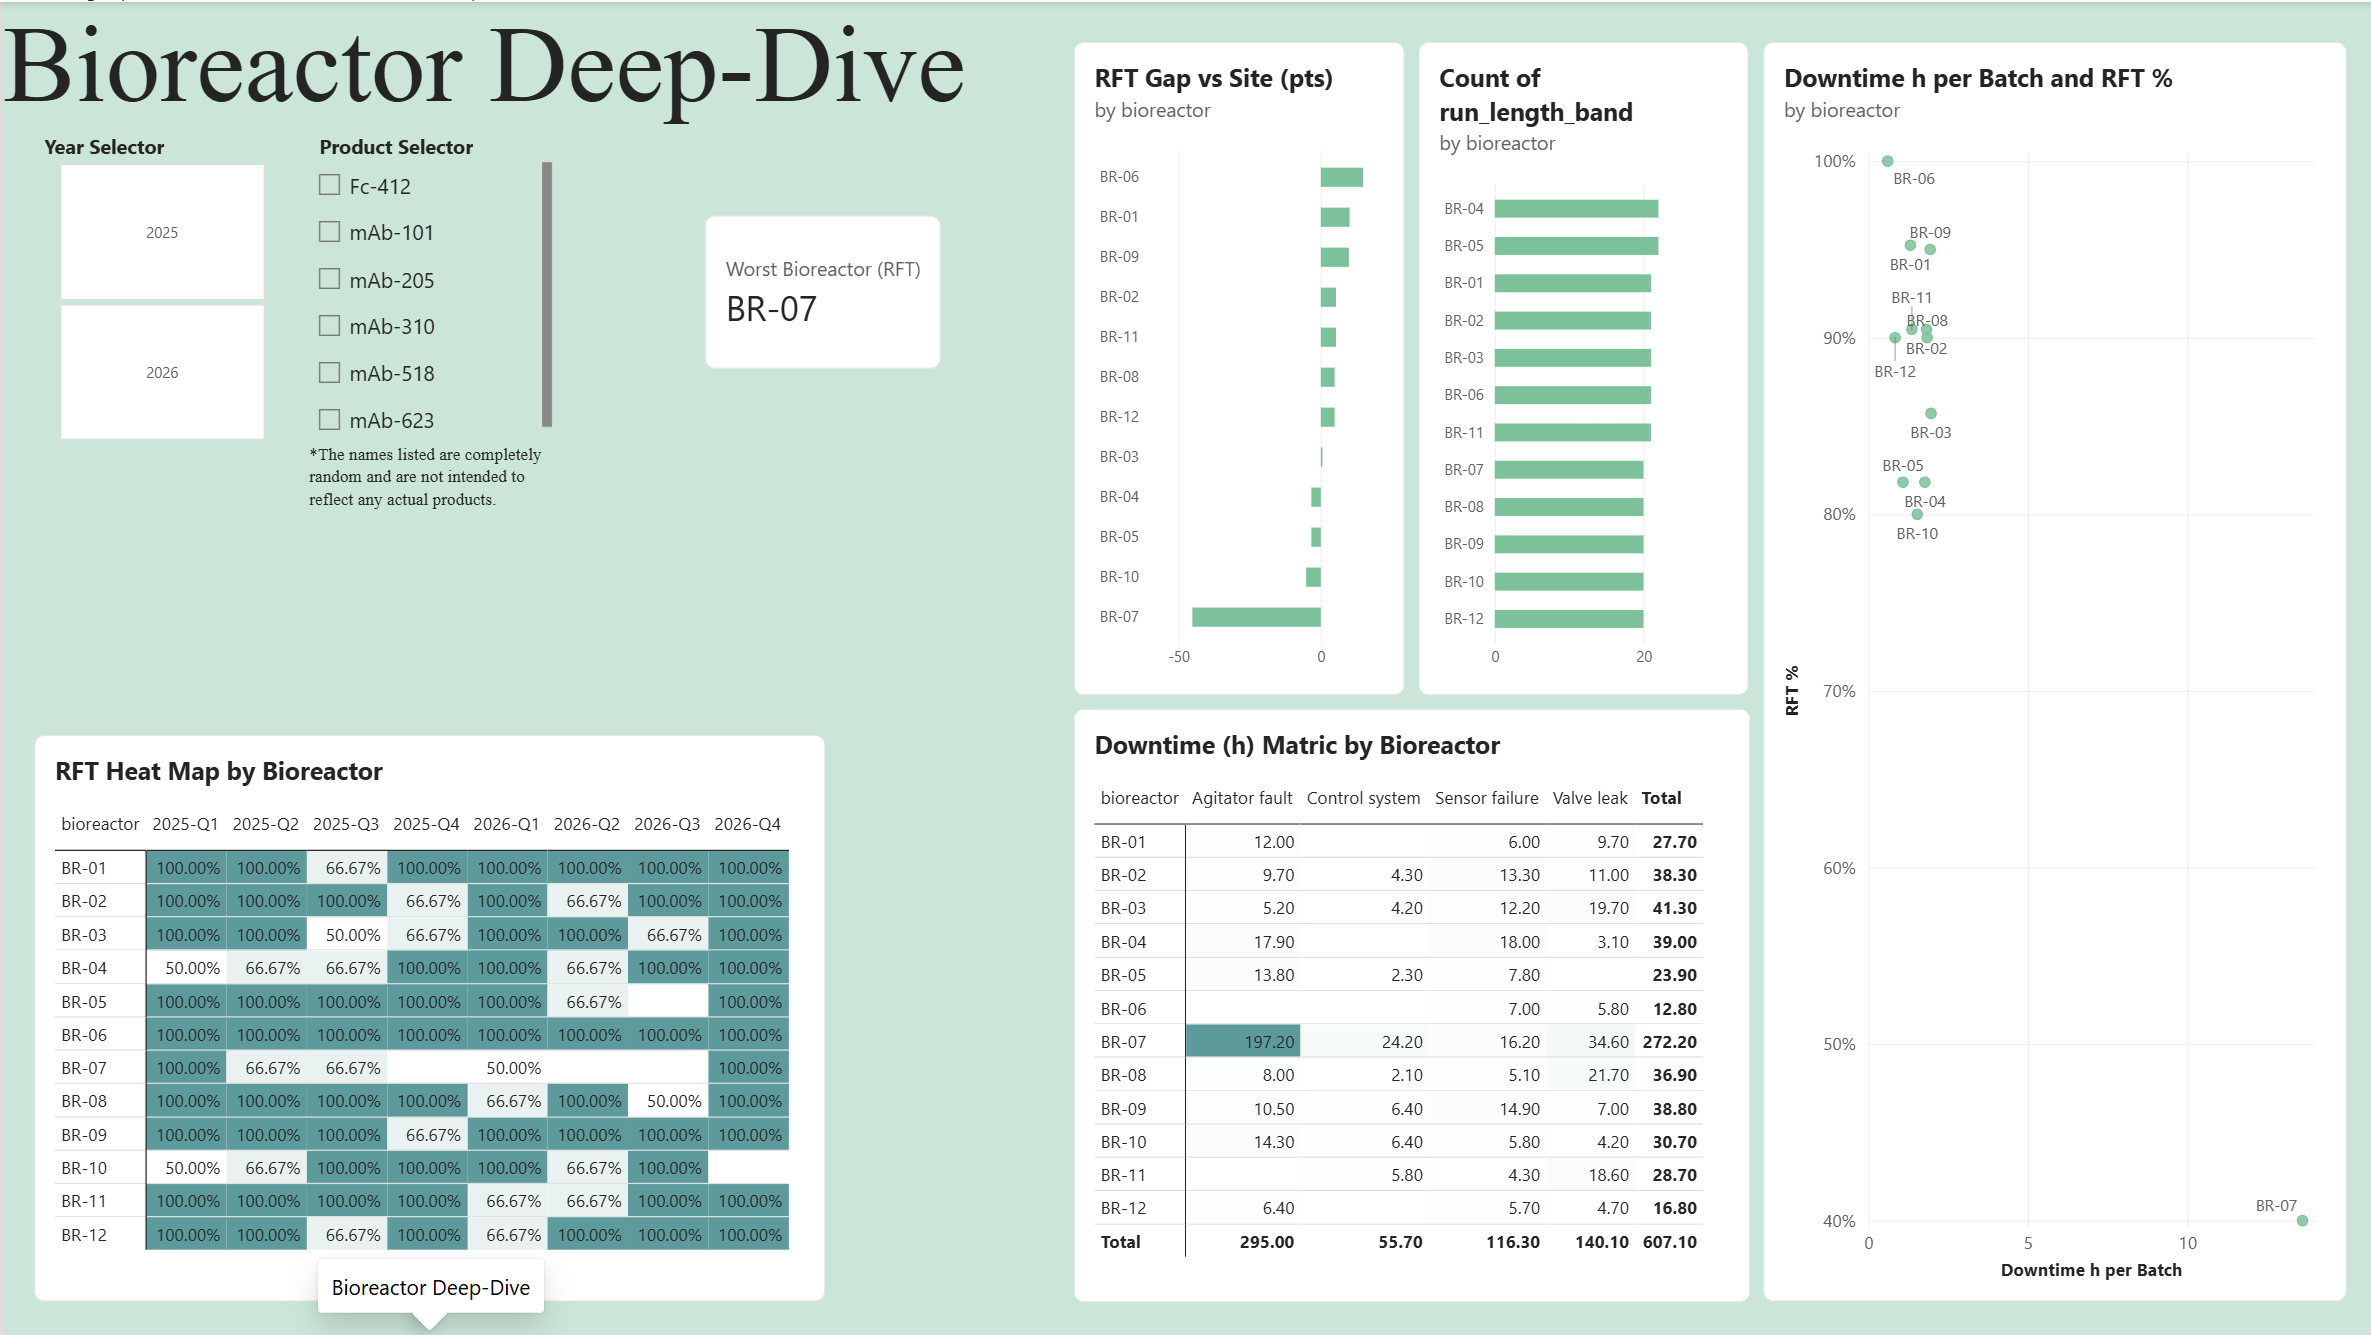

What the dashboard file says about the page in this screenshot:
{"tool":"powerbi","page":{"name":"Bioreactor Deep-Dive","canvas":[1920,1080],"ordinal":1},"visuals":[{"type":"slicer","fields":{"Values":["date.Year"]},"box":[25.8,106.3,205,250],"z":0},{"type":"slicer","fields":{"Values":["batches_clean.product"]},"box":[248.1,106.3,196.5,249.7],"z":1000},{"type":"cardVisual","fields":{"Data":["_Measures.Worst Bioreactor (RFT)"]},"box":[568.3,173.3,191.7,124],"z":2000},{"type":"pivotTable","title":"RFT Heat Map by Bioreactor","fields":{"Columns":["date.Quarter"],"Rows":["dim_bioreactor.bioreactor"],"Values":["_Measures.RFT %"]},"box":[25,593.3,640,458.3],"z":3000},{"type":"clusteredBarChart","fields":{"Category":["dim_bioreactor.bioreactor"],"Y":["_Measures.RFT Gap vs Site (pts)"]},"box":[866.6,32.2,267.4,528.3],"z":4000},{"type":"pivotTable","title":"Downtime (h) Matric by Bioreactor","fields":{"Columns":["downtime_clean.cause"],"Rows":["dim_bioreactor.bioreactor"],"Values":["_Measures.Unplanned Downtime h"]},"box":[866.6,571.8,547.7,480],"z":5000},{"type":"scatterChart","fields":{"Category":["dim_bioreactor.bioreactor"],"X":["_Measures.Downtime h per Batch"],"Y":["_Measures.RFT %"]},"box":[1425.5,32.2,471.9,1019.6],"z":6000},{"type":"barChart","fields":{"Category":["dim_bioreactor.bioreactor"],"Y":["CountNonNull(batches_clean.run_length_band)"]},"box":[1146.8,32.2,266.7,528.3],"z":7000},{"type":"textbox","box":[248.1,356,196.5,59.6],"z":8000},{"type":"textbox","box":[0,0,801.7,106.7],"z":9000}]}

Visuals, with their boxes in screenshot pixels (x1, y1, x2, y2), scaled from the page's 1920x1080 canvas onto the 2371x1335 screenshot:
slicer - date.Year: crop(32, 131, 285, 440)
slicer - batches_clean.product: crop(306, 131, 549, 440)
cardVisual - _Measures.Worst Bioreactor (RFT): crop(702, 214, 939, 367)
"RFT Heat Map by Bioreactor" pivotTable: crop(31, 733, 821, 1300)
clusteredBarChart - dim_bioreactor.bioreactor x _Measures.RFT Gap vs Site (pts): crop(1070, 40, 1400, 693)
"Downtime (h) Matric by Bioreactor" pivotTable: crop(1070, 707, 1747, 1300)
scatterChart - dim_bioreactor.bioreactor x _Measures.Downtime h per Batch: crop(1760, 40, 2343, 1300)
barChart - dim_bioreactor.bioreactor x CountNonNull(batches_clean.run_length_band): crop(1416, 40, 1746, 693)
textbox: crop(306, 440, 549, 514)
textbox: crop(0, 0, 990, 132)
